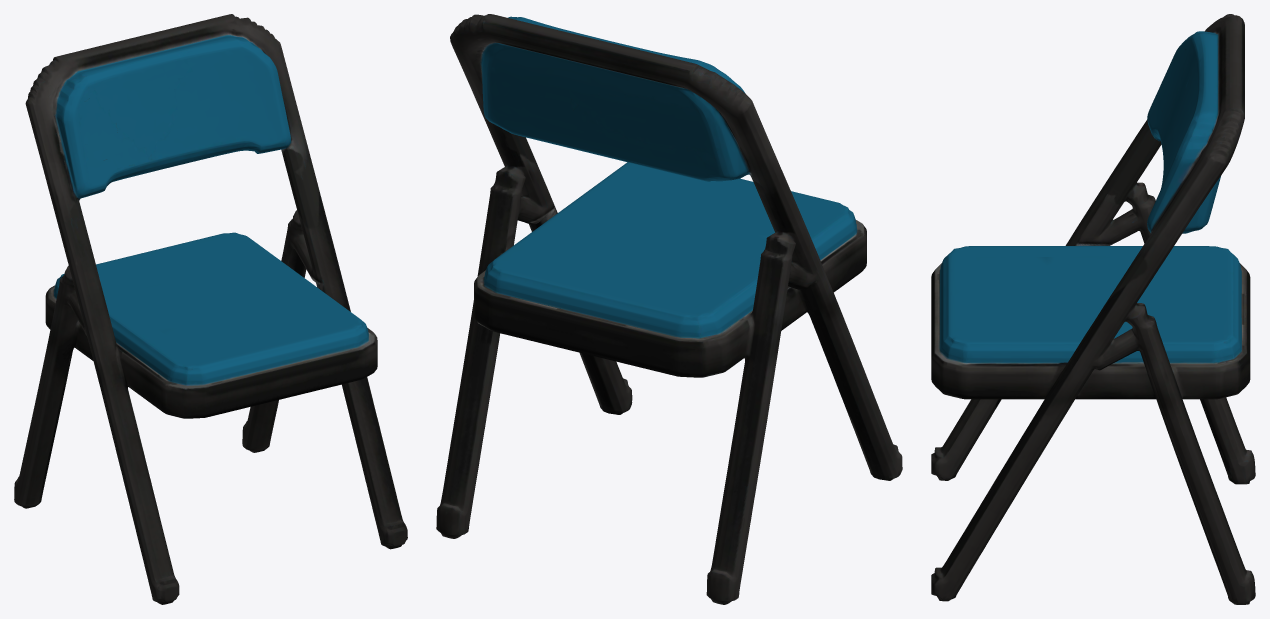
File: chair.glb
The picture shows the model from 3 angles, left to right: view 1: azimuth 30°, elevation 25°; view 2: azimuth 150°, elevation 25°; view 3: azimuth 270°, elevation 25°; orthographic projection. The views are drawn at different scales.
Parts seen in each view (by area): view 1: node_id5; view 2: node_id5; view 3: node_id5.
Part boxes in pixels (x1,y1,x2,y2): node_id5: (14,14,407,604); node_id5: (436,14,902,604); node_id5: (931,14,1255,604).
Size of the model in its own units: 0.304 by 0.512 by 0.3138.
Materials: 1 (1 with a texture image).
